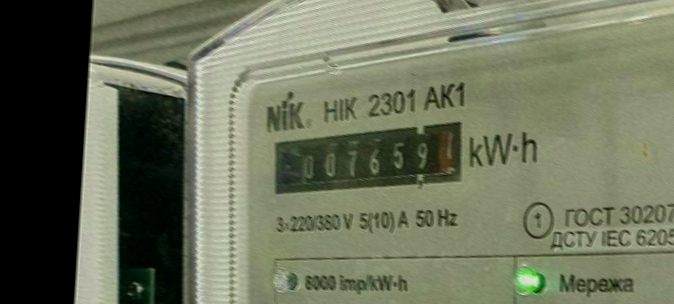0: (302, 151, 317, 180), (324, 151, 338, 178)
1: (443, 131, 457, 163)
5: (390, 140, 407, 172)
6: (368, 145, 383, 177)
7: (345, 146, 361, 179)
9: (414, 138, 431, 173)
screen: (258, 104, 485, 212)
